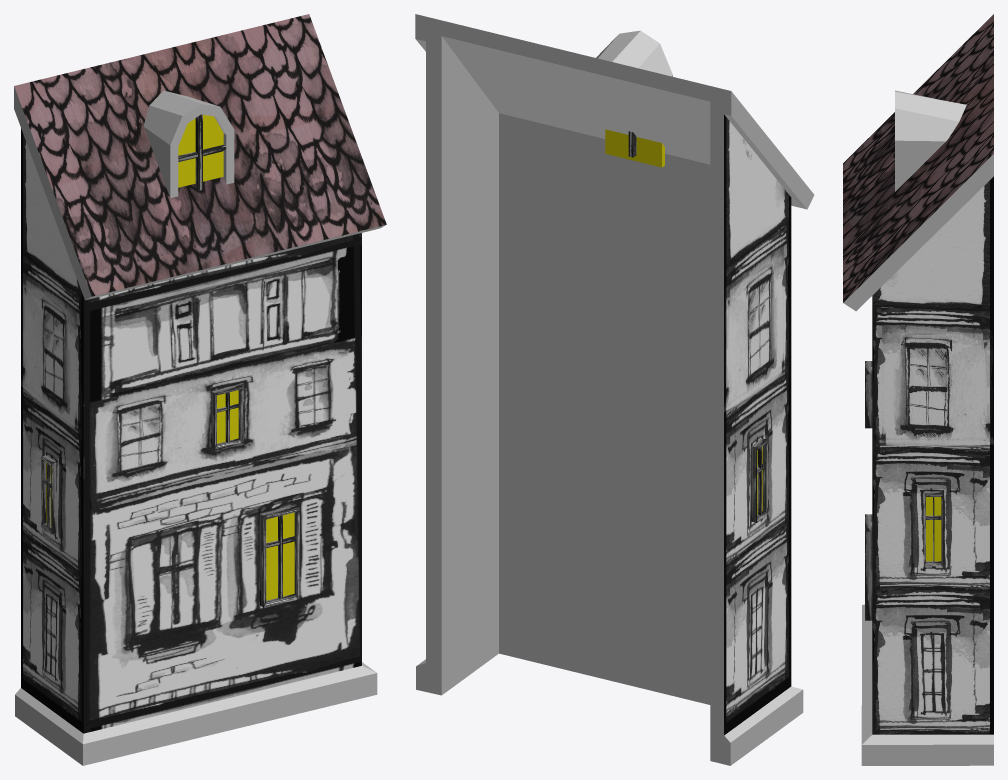
File: House09.fbx
The picture shows the model from 3 angles, left to right: view 1: azimuth 30°, elevation 25°; view 2: azimuth 150°, elevation 25°; view 3: azimuth 270°, elevation 25°; orthographic projection. The views are drawn at different scales.
Parts seen in each view (by area): view 1: House09; view 2: House09; view 3: House09.
Boxes of the visible parts, bbox=[...] form: House09: bbox=[14, 14, 386, 765]; House09: bbox=[415, 14, 814, 765]; House09: bbox=[843, 14, 993, 765].
Bounding box in the file's own units: 10.01 × 20.46 × 4.56.
